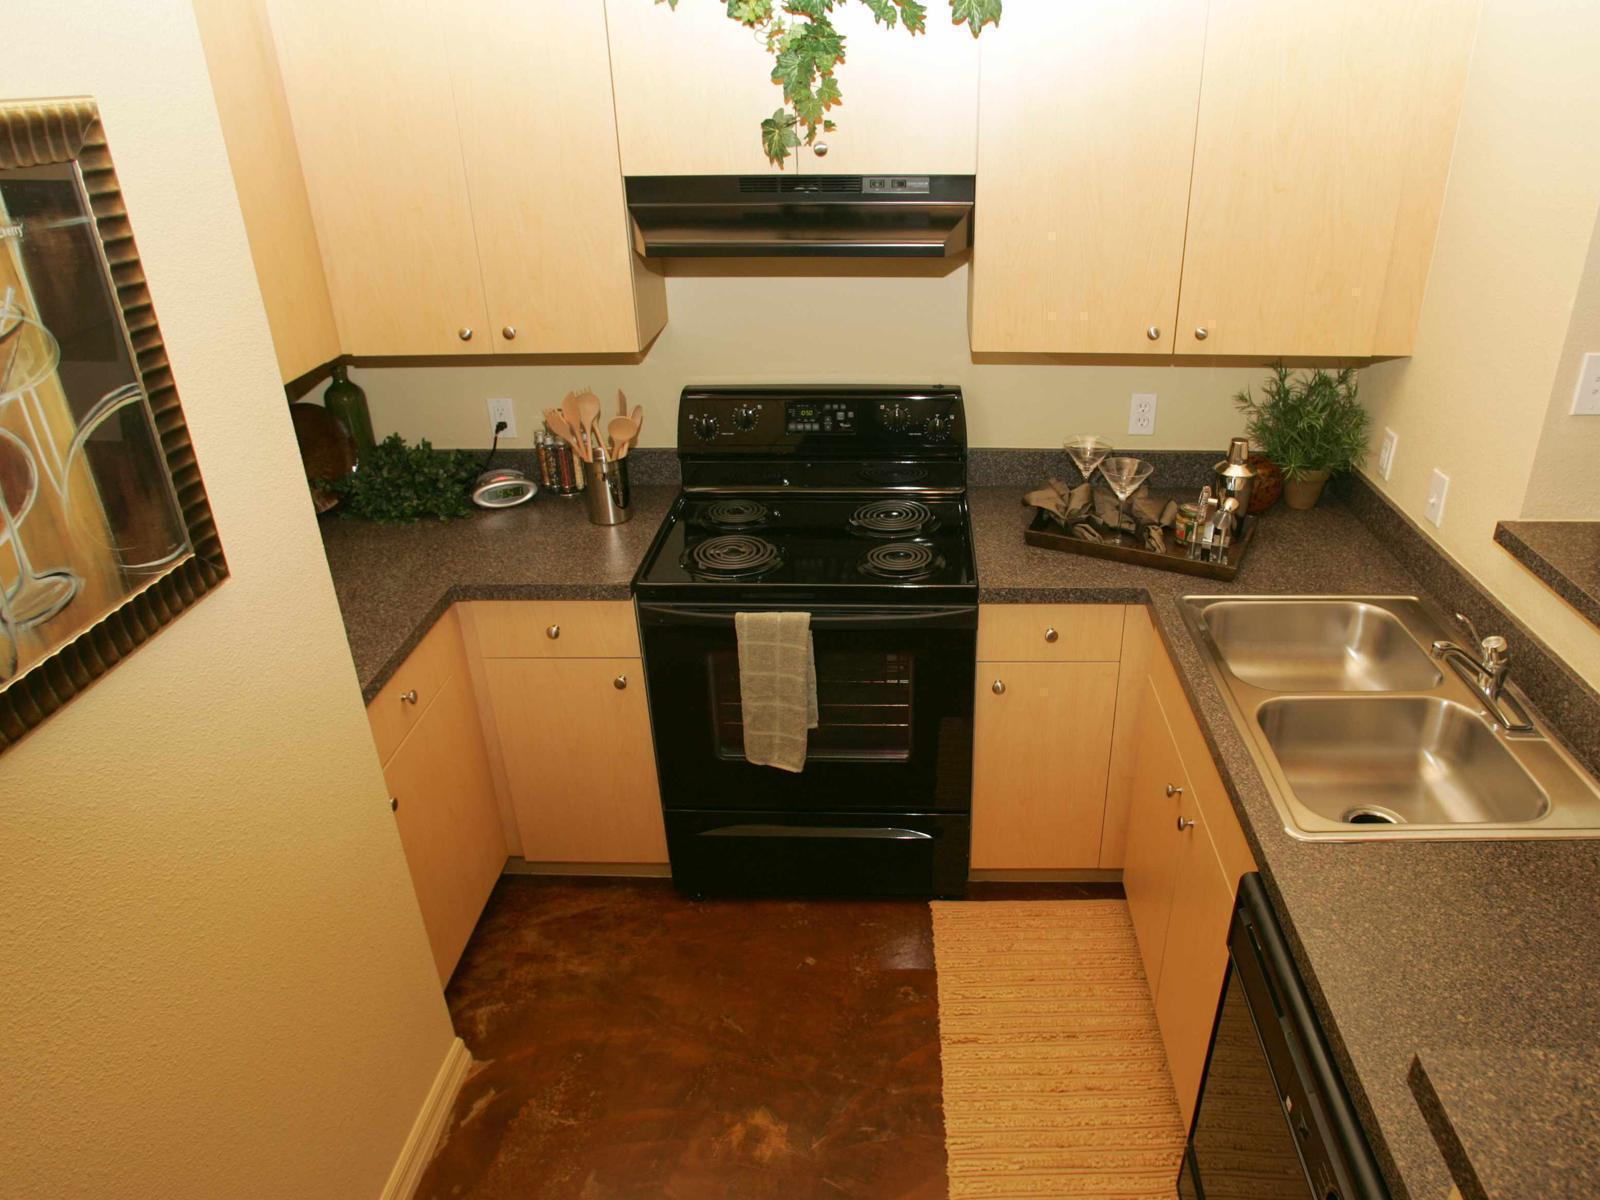Electrodomestico: (651, 412, 968, 901), (1169, 865, 1327, 1194)
Lavaplatos: (1173, 565, 1587, 852)
